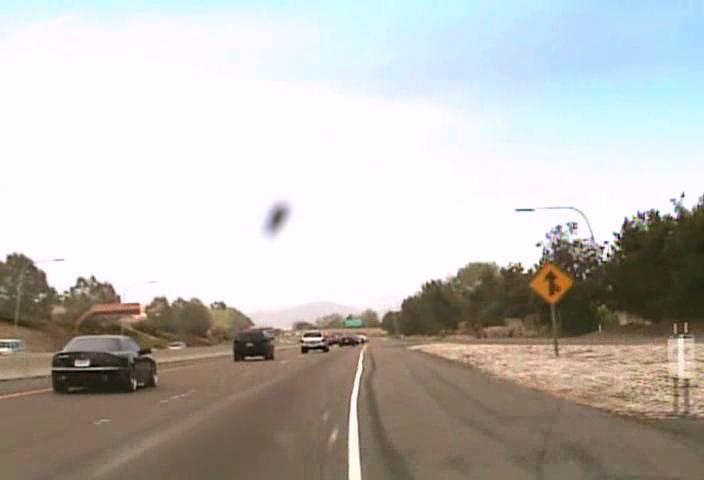merge: (527, 261, 574, 304)
